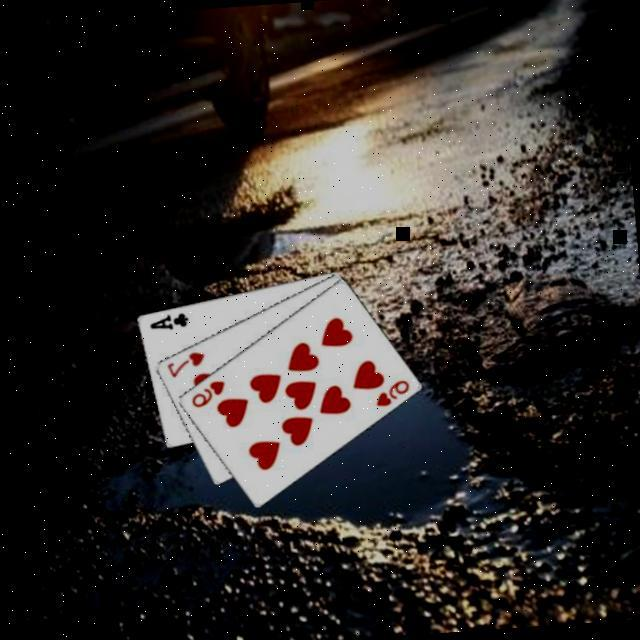7H: (162, 346, 208, 378)
9H: (370, 373, 412, 408), (186, 374, 228, 408)
AC: (146, 306, 191, 331)
